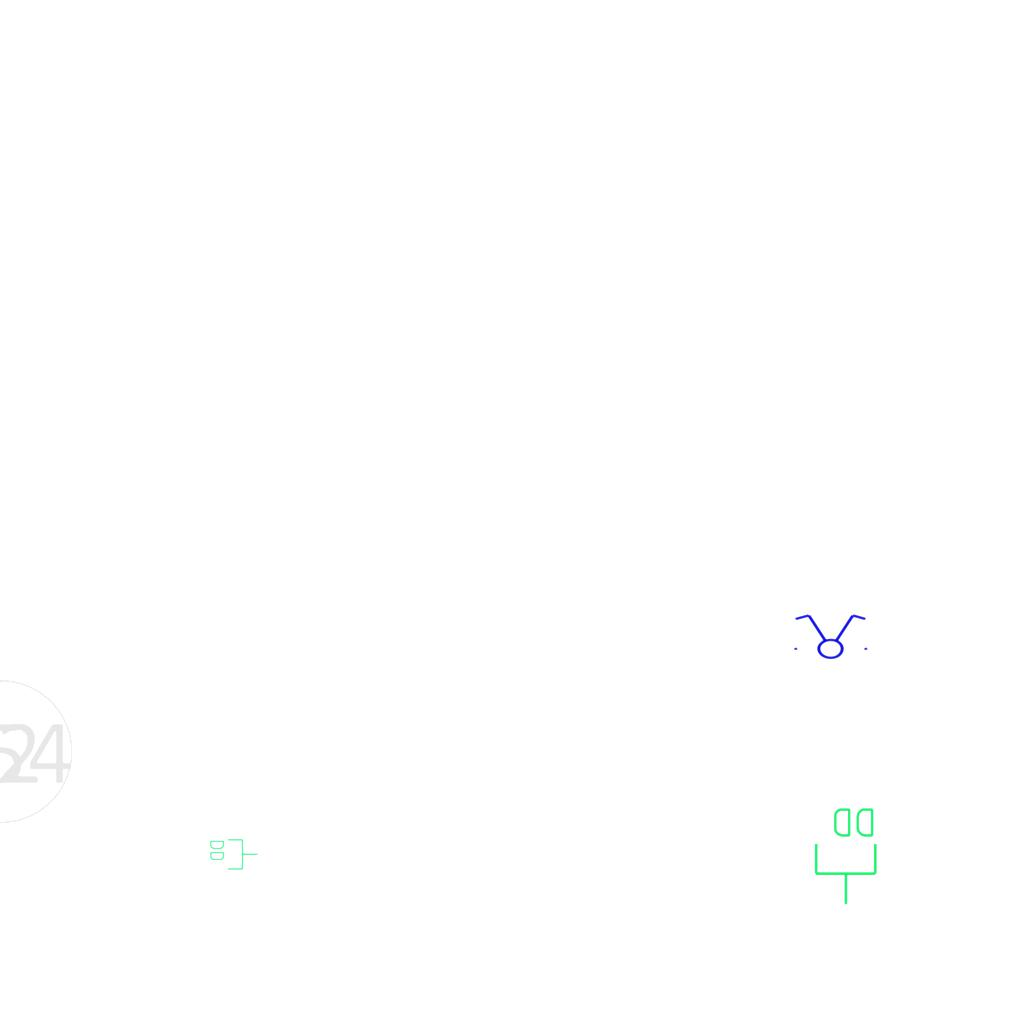Datenanschluss_zweifach: (812, 804, 881, 907), (208, 837, 259, 871)
Serienschalter: (788, 612, 872, 660)
